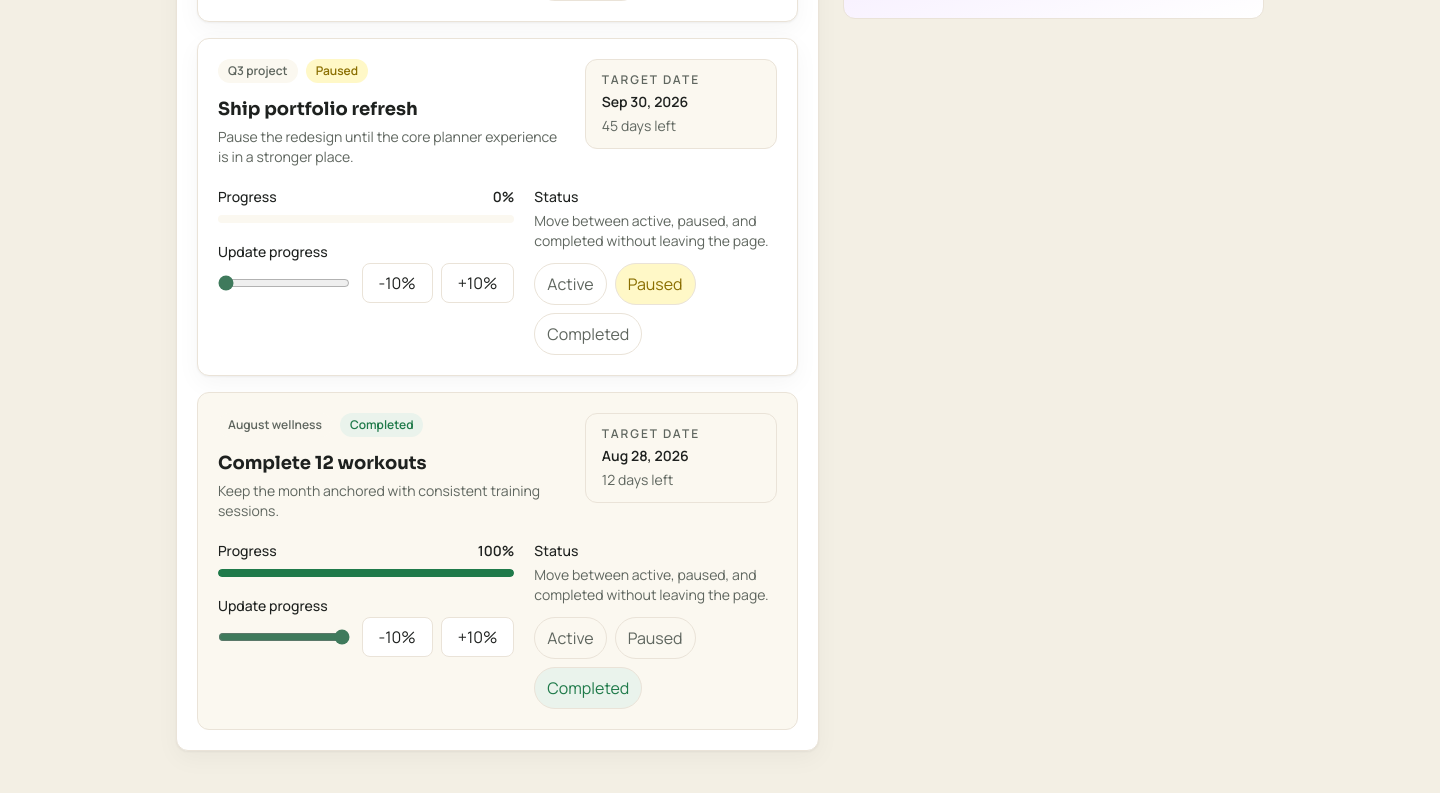
Test: GoalsPage — nudging progress › reopens a completed goal when its progress drops
The width and height of the screenshot is (1440, 793).
(page scrolled)
Click the button named "Decrease Complete 12 workouts progress by 10 percent": (397, 637) [362, 617, 433, 657]
(page scrolled)
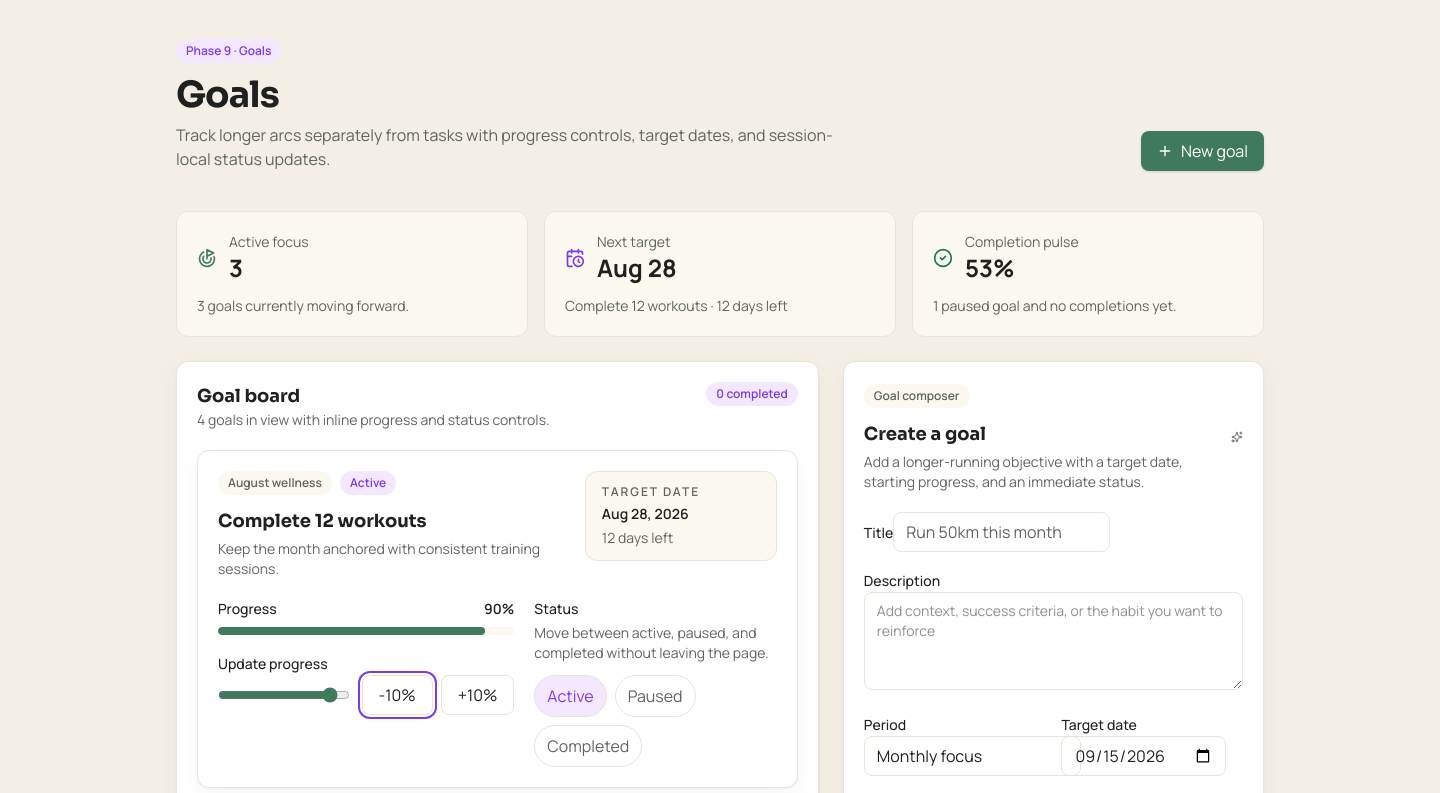
Now the text "0 completed" is shown, box [706, 382, 798, 406]
